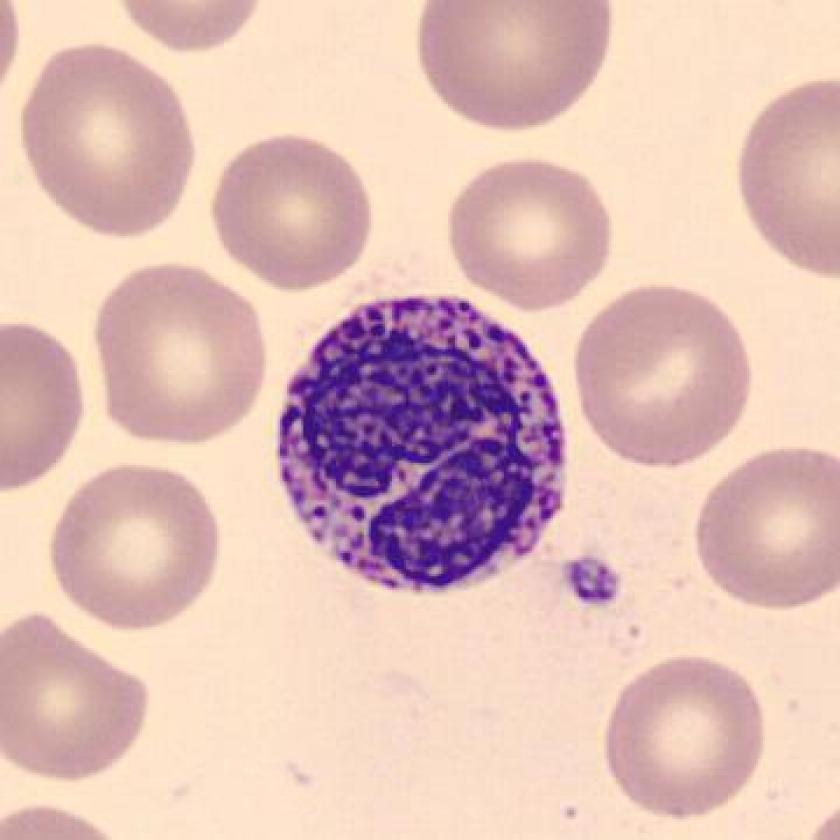basophil: (267, 286, 580, 600)
